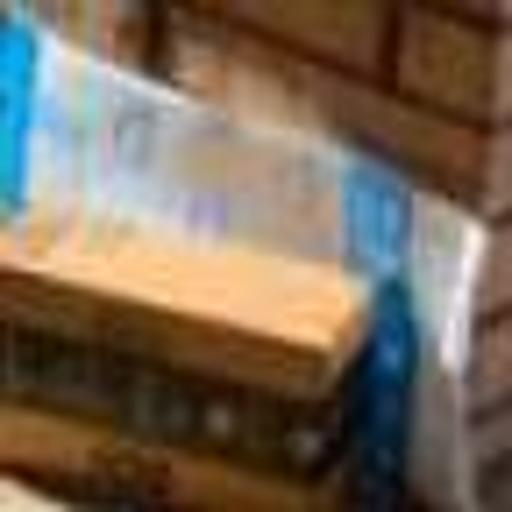Amazon: (16, 24, 476, 472), (0, 275, 366, 505)
